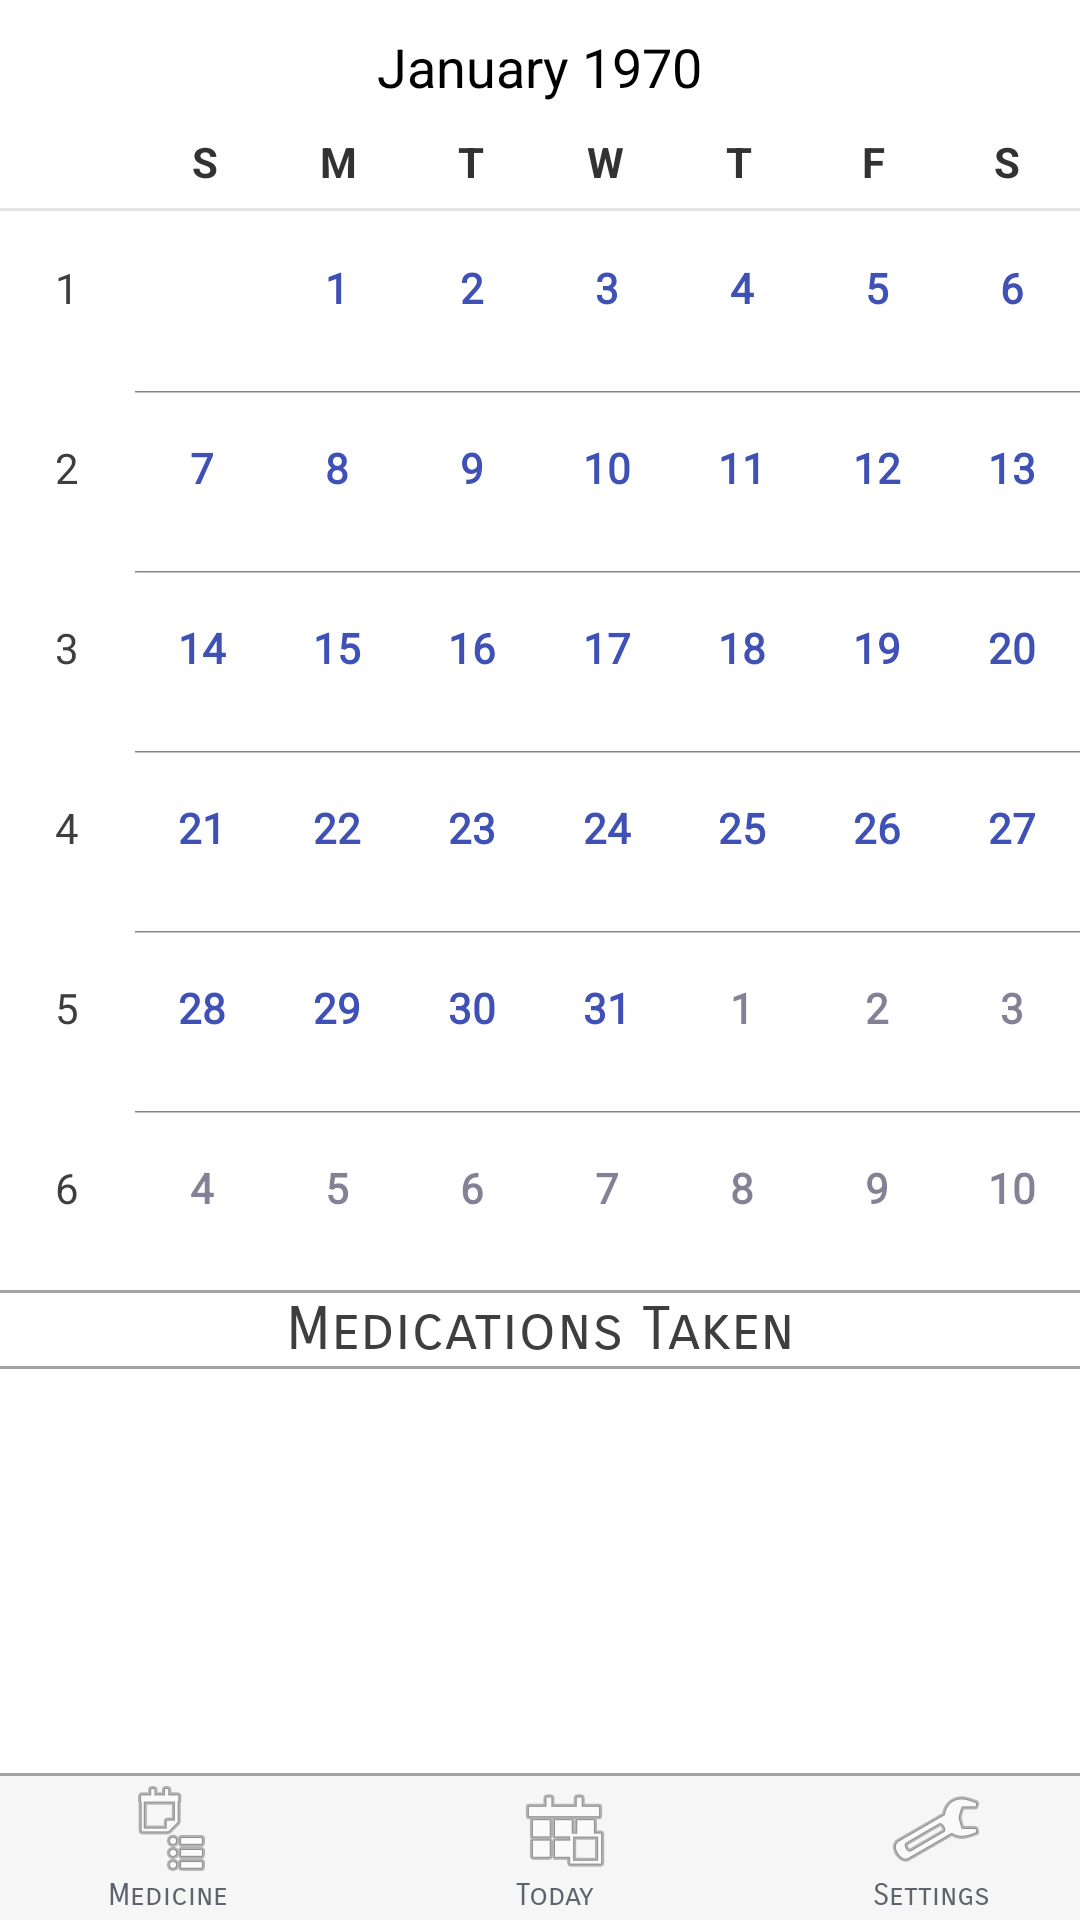

Icons on this 1080px×1920px Android screen, each with the point to tap as point (x, y):
agenda: point (171, 1828)
